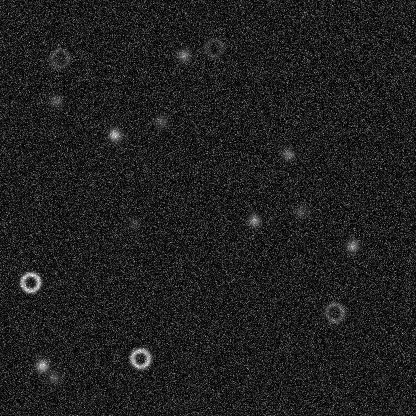Ring: (201, 35, 225, 59), (18, 270, 42, 294), (128, 346, 152, 370), (322, 300, 346, 324), (47, 46, 71, 70)
Spot: (126, 215, 142, 231), (47, 92, 63, 108), (292, 203, 308, 219), (106, 126, 122, 142), (246, 212, 262, 228), (34, 357, 50, 373), (152, 113, 168, 129), (279, 146, 295, 162), (175, 47, 191, 63), (344, 237, 360, 253), (45, 369, 61, 385)
